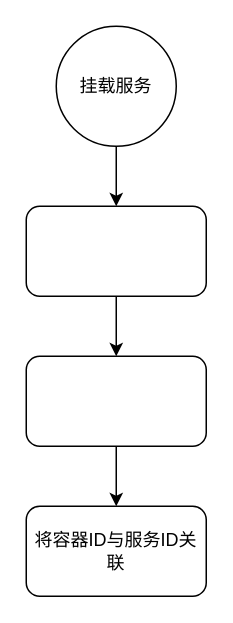
Some shapes in this 233 by 623 pixel diagram are drawn without their labels. The shapes that lost their labels are listed below. From the top down, each one's box as (x1, y1, x2, y2) in pixels, then its label:
(25, 205, 206, 296): 注入环境变量配置
(25, 355, 206, 446): 调用DockerAPI挂载，执行容器内/project/start.sh
